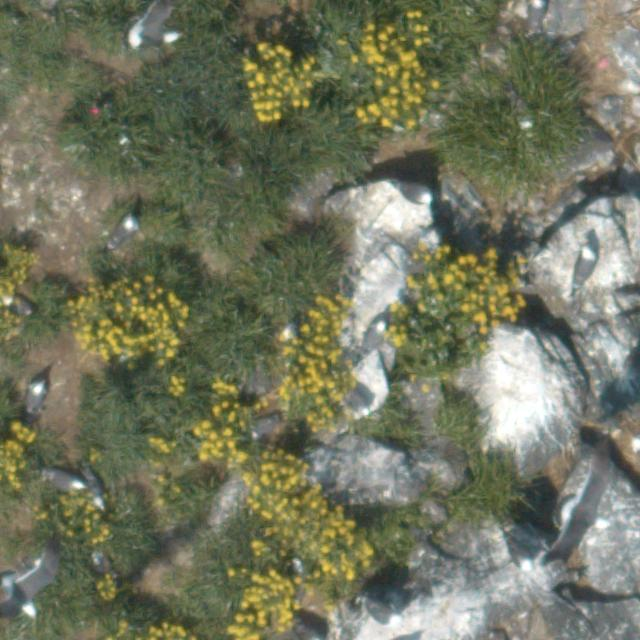F: (552, 450, 612, 565), (3, 545, 56, 623), (126, 2, 192, 46)
umineko: (363, 597, 401, 628), (360, 320, 387, 358), (396, 184, 432, 204), (25, 383, 45, 417), (45, 471, 80, 490), (111, 218, 135, 245), (576, 248, 595, 281), (252, 414, 280, 435), (7, 298, 33, 316), (532, 2, 545, 26)
